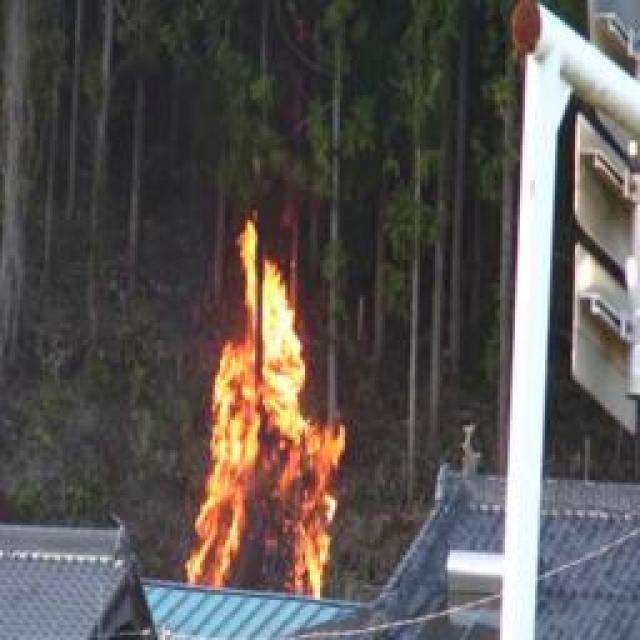Fire: (190, 227, 341, 599)
